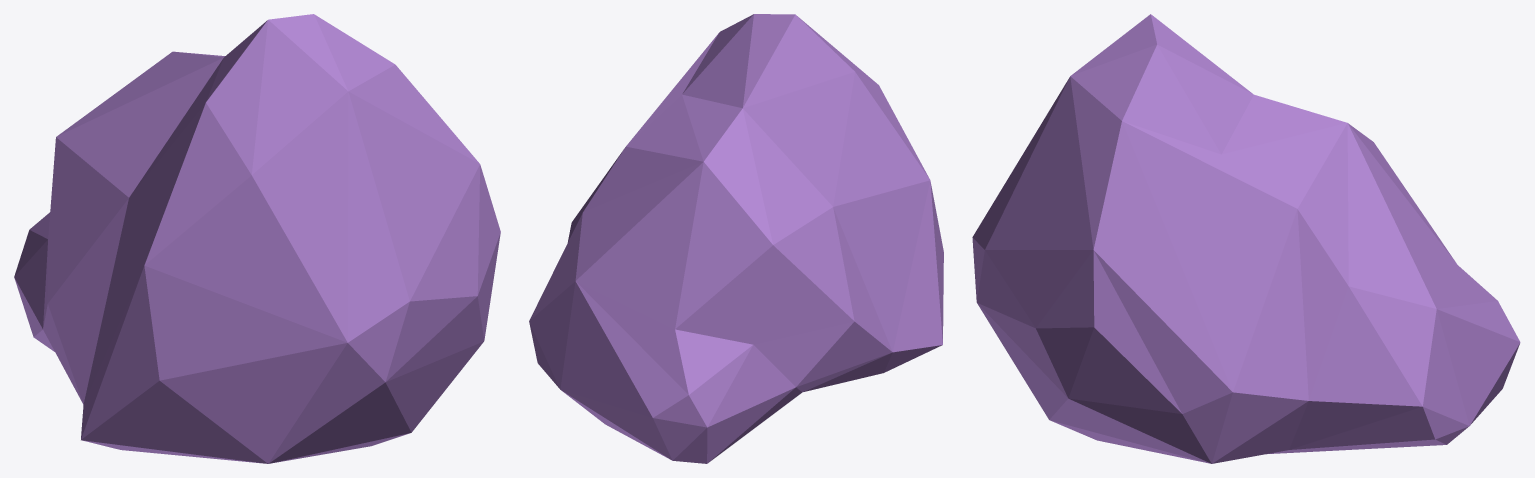
Rendered from boulder6.fbx.
3 renders of one model, left to right at view 1: azimuth 30°, elevation 25°; view 2: azimuth 150°, elevation 25°; view 3: azimuth 270°, elevation 25°, orthographic. The views are drawn at different scales.
Parts seen in each view (by area): view 1: boulder3.001; view 2: boulder3.001; view 3: boulder3.001.
Part boxes in pixels (bbox=[...]): boulder3.001: bbox=[14, 14, 500, 463]; boulder3.001: bbox=[529, 14, 943, 463]; boulder3.001: bbox=[972, 14, 1520, 463].
Bounding box in the file's own units: 746 × 716 × 892.
